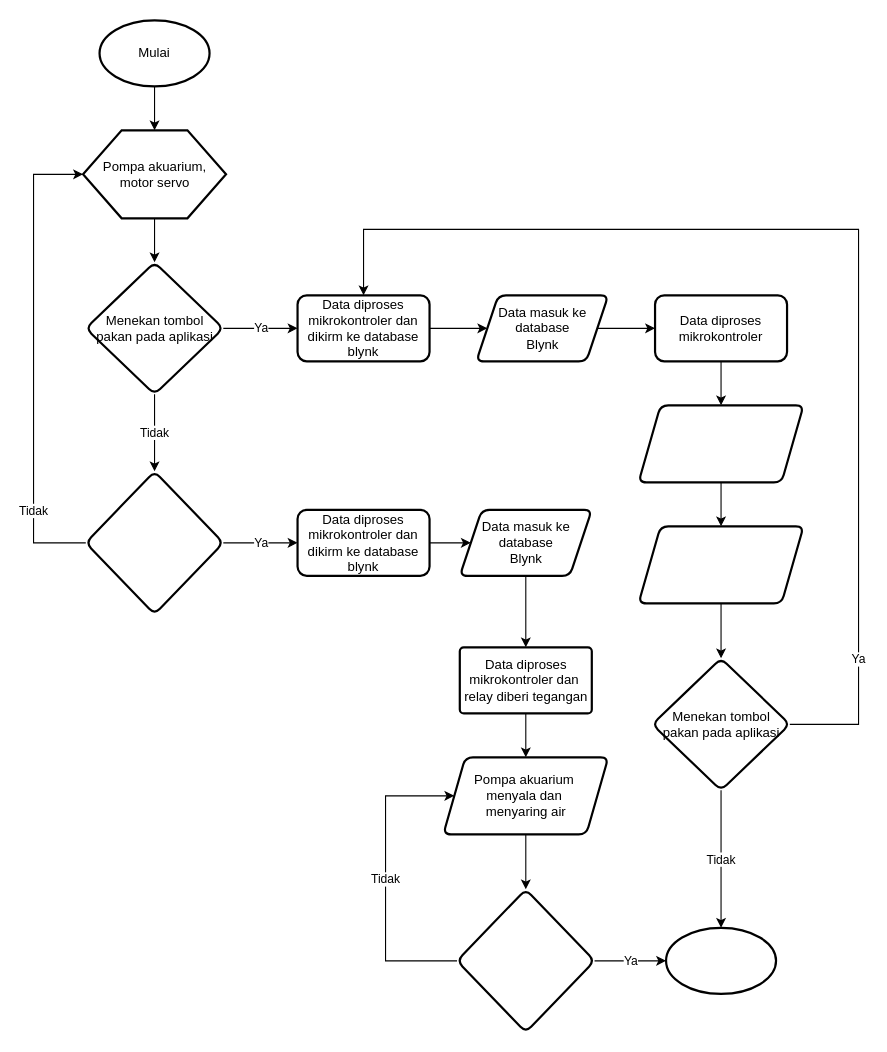
This 887x1052 diagram has some shape labels left out. The shapes that lost their labels are listed below. From the top down, each one's box as (x1, y1, x2, y2) in pixels, then its label:
(637, 404, 804, 483): Motor servo bergerak 180 o dan makanan jatuh ke akuarium
(84, 470, 224, 615): Menyalakan tombol pompa pada aplikasi
(637, 525, 804, 604): Motor servo bergerak kembali 180 o ke posisi awal
(455, 888, 595, 1033): Mematikan tombol pompa pada aplikasi
(664, 926, 777, 994): Selesai
